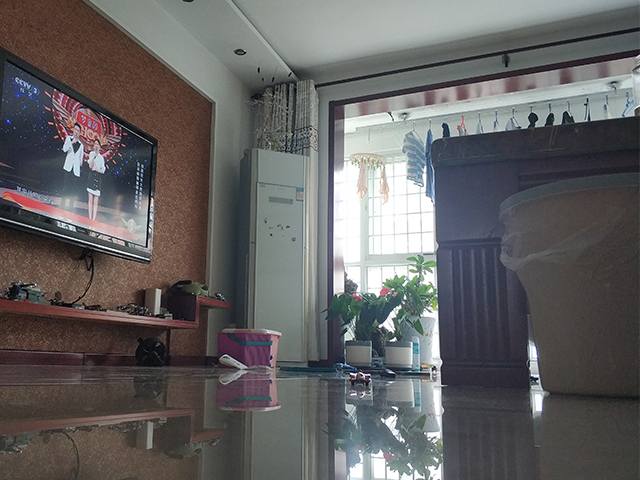table: (428, 114, 640, 390)
trashcan: (495, 170, 640, 401)
